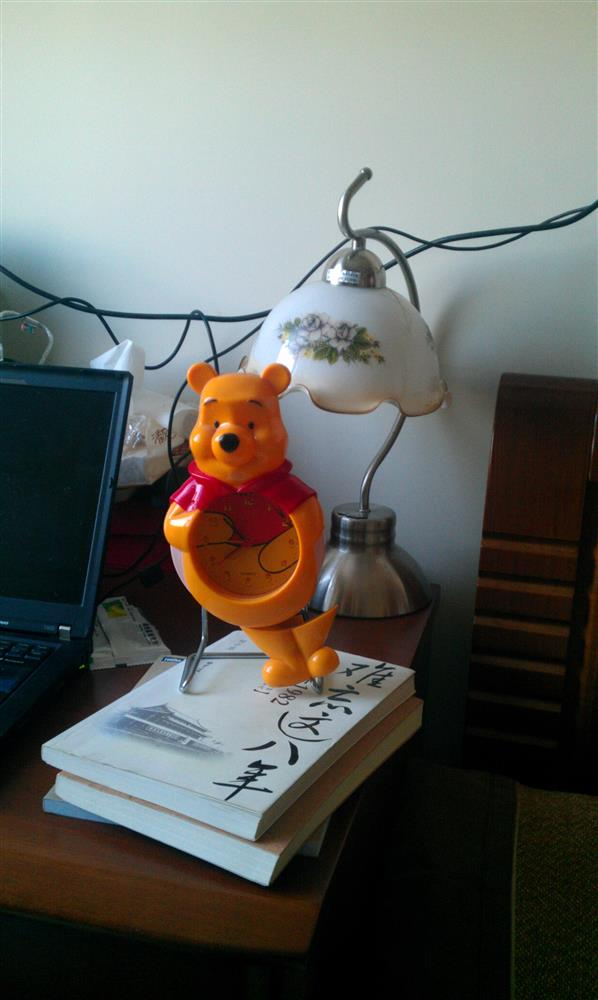pooh: (157, 358, 352, 692)
